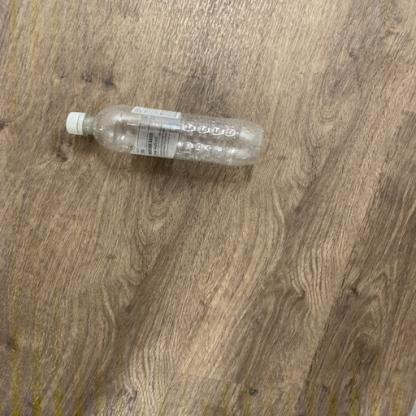trash: (65, 106, 267, 167)
